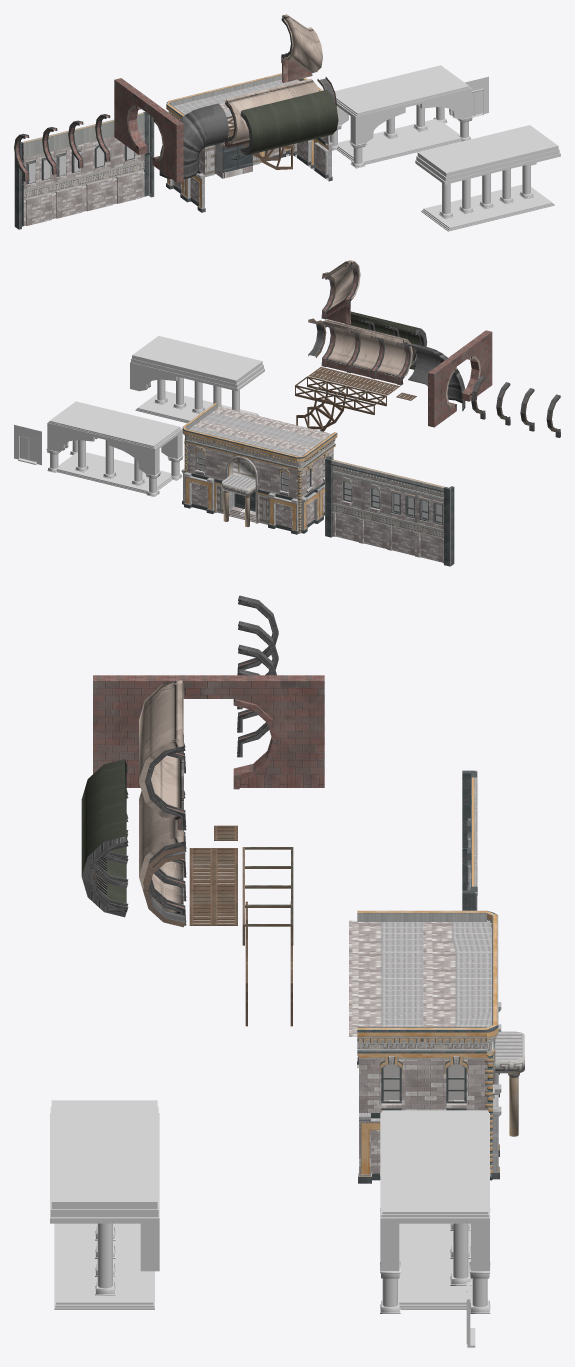
Rendered from BlockoutHouse02.fbx.
3 views of the same model, one above another, from view 1: azimuth 30°, elevation 25°; view 2: azimuth 150°, elevation 25°; view 3: azimuth 270°, elevation 25° (orthographic). The views are drawn at different scales.
Visible parts, largest first — view 1: House_Wall, Tempel, WallEmpty Down.006, Voyer, Tunnel_Straight.003, Tunnel_Gate, Tunnel_Curve90, Tunnel_Straight.001, Tunnel_Straight, Tunnel_InsideCurves, Door, Construct_v2; view 2: Voyer, House_Wall, Tempel, WallEmpty Down.006, Tunnel_Straight, Tunnel_Gate, Tunnel_Straight.001, Construct_v1, Tunnel_Curve90, Tunnel_Straight.003, Tunnel_InsideCurves, TunnelWalk (+2 smaller); view 3: Voyer, WallEmpty Down.006, Tempel, Tunnel_Gate, Tunnel_Straight.003, Tunnel_Straight.001, TunnelWalk, Tunnel_Straight, Tunnel_InsideCurves, House_Wall, Construct_v1, Tunnel_Connect.
Boxes of the visible parts, x1,y1,x2,y2 form: House_Wall: (14,112,154,229); Tempel: (329,65,472,168); WallEmpty Down.006: (415,125,560,231); Voyer: (166,73,332,212); Tunnel_Straight.003: (240,90,338,155); Tunnel_Gate: (114,78,183,182); Tunnel_Curve90: (159,103,228,178); Tunnel_Straight.001: (281,14,322,82); Tunnel_Straight: (225,78,319,147); Tunnel_InsideCurves: (14,114,110,181); Door: (465,76,488,117); Construct_v2: (244,143,292,169); Voyer: (181,403,337,534); House_Wall: (325,456,454,566); Tempel: (46,401,183,496); WallEmpty Down.006: (130,336,264,422); Tunnel_Straight: (321,320,412,385); Tunnel_Gate: (428,330,492,427); Tunnel_Straight.001: (321,260,360,324); Construct_v1: (295,376,386,414); Tunnel_Curve90: (408,343,465,411); Tunnel_Straight.003: (345,311,427,369); Tunnel_InsideCurves: (471,376,560,437); TunnelWalk: (309,367,399,395); Voyer: (349,910,524,1183); WallEmpty Down.006: (50,1100,159,1309); Tempel: (380,1110,490,1313); Tunnel_Gate: (93,675,324,789); Tunnel_Straight.003: (81,759,128,917); Tunnel_Straight.001: (139,680,186,830); TunnelWalk: (189,848,237,925); Tunnel_Straight: (139,790,186,925); Tunnel_InsideCurves: (237,595,278,757); House_Wall: (462,770,477,910); Construct_v1: (242,847,293,945); Tunnel_Connect: (143,846,185,927).
Bounding box in the file's own units: 7650 × 3105 × 3221.
